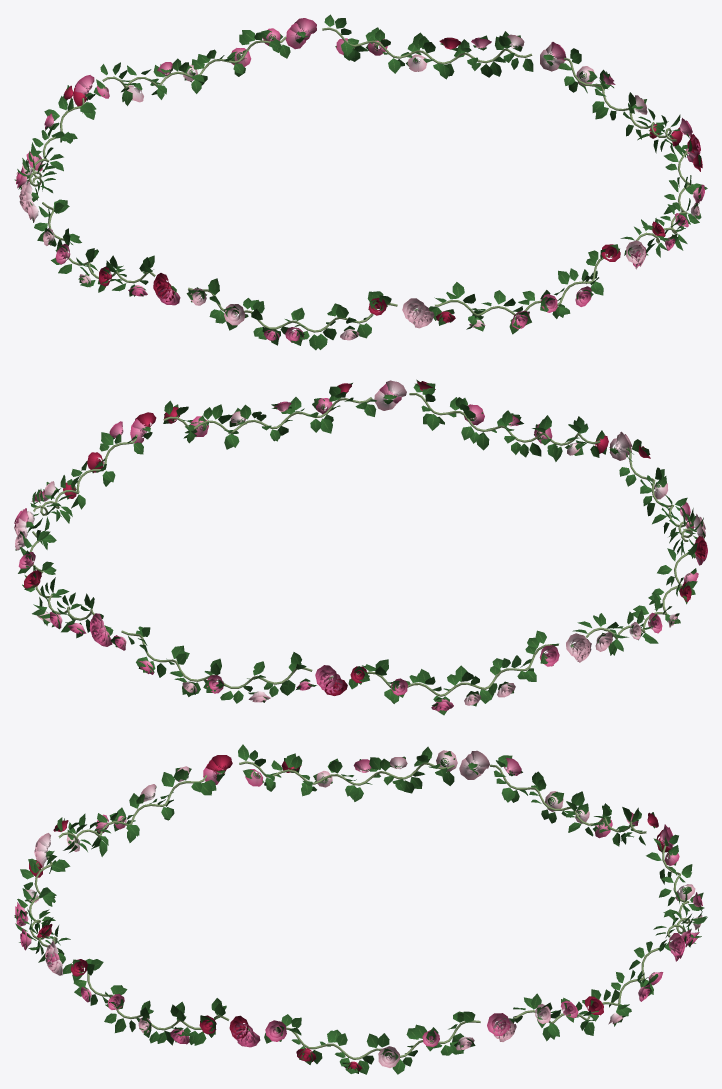
File: citadel_gazebo_garland.glb
3 renders of one model, top to bottom at view 1: azimuth 30°, elevation 25°; view 2: azimuth 150°, elevation 25°; view 3: azimuth 270°, elevation 25°, orthographic.
Parts seen in each view (by area): view 1: leaves, petals, vine; view 2: leaves, petals, vine; view 3: leaves, petals, vine.
Part boxes in pixels (x1,y1,x2,y2): leaves: (14,14,707,350); petals: (16,18,704,342); vine: (29,27,690,332); leaves: (15,379,705,715); petals: (14,380,707,711); vine: (29,393,692,696); leaves: (14,744,707,1074); petals: (15,750,702,1070); vine: (29,761,690,1059).
Bounding box in the file's own units: 6.69 × 0.6475 × 6.72.
3 materials, 2 textured.
